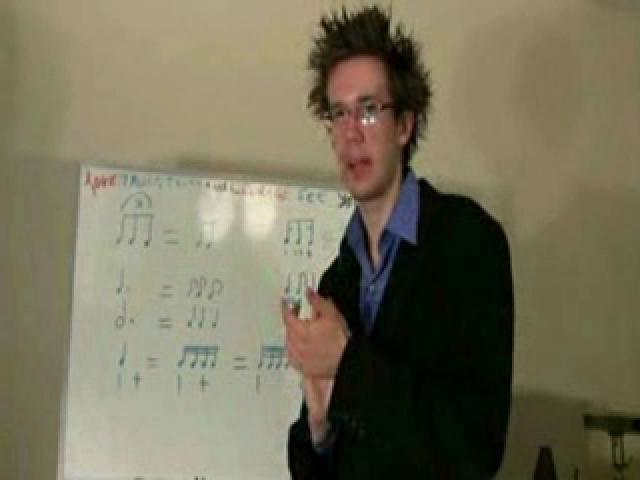F: (274, 3, 517, 475)
